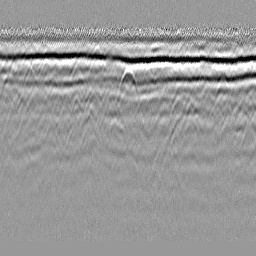cavity: (117, 66, 140, 100)
